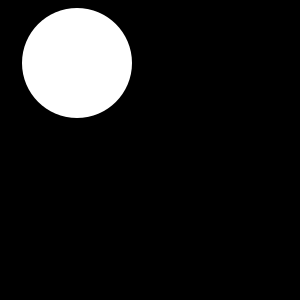rectangle: (22, 8, 132, 118)
